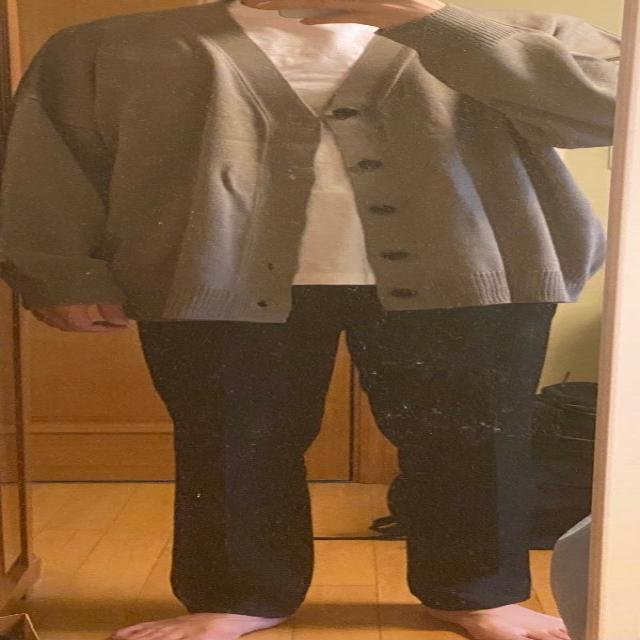cardigan: (13, 0, 624, 324)
slacks: (138, 280, 554, 612)
